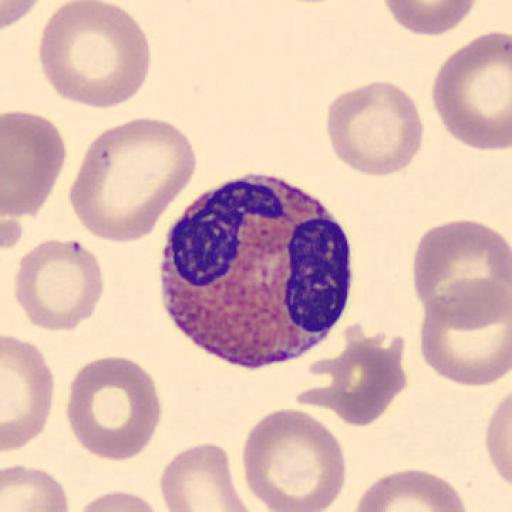RBC: (68, 116, 199, 244), (36, 0, 153, 110), (240, 406, 348, 512), (411, 217, 512, 327), (295, 330, 408, 426), (418, 275, 512, 388), (65, 355, 163, 462), (431, 29, 512, 152), (324, 80, 424, 178), (14, 236, 104, 334), (2, 109, 68, 218), (158, 441, 254, 512), (2, 334, 56, 452), (352, 467, 469, 512), (381, 0, 479, 37), (0, 462, 70, 512), (485, 391, 512, 491), (76, 489, 166, 511), (0, 0, 40, 31)
WBC: (160, 173, 353, 369)
